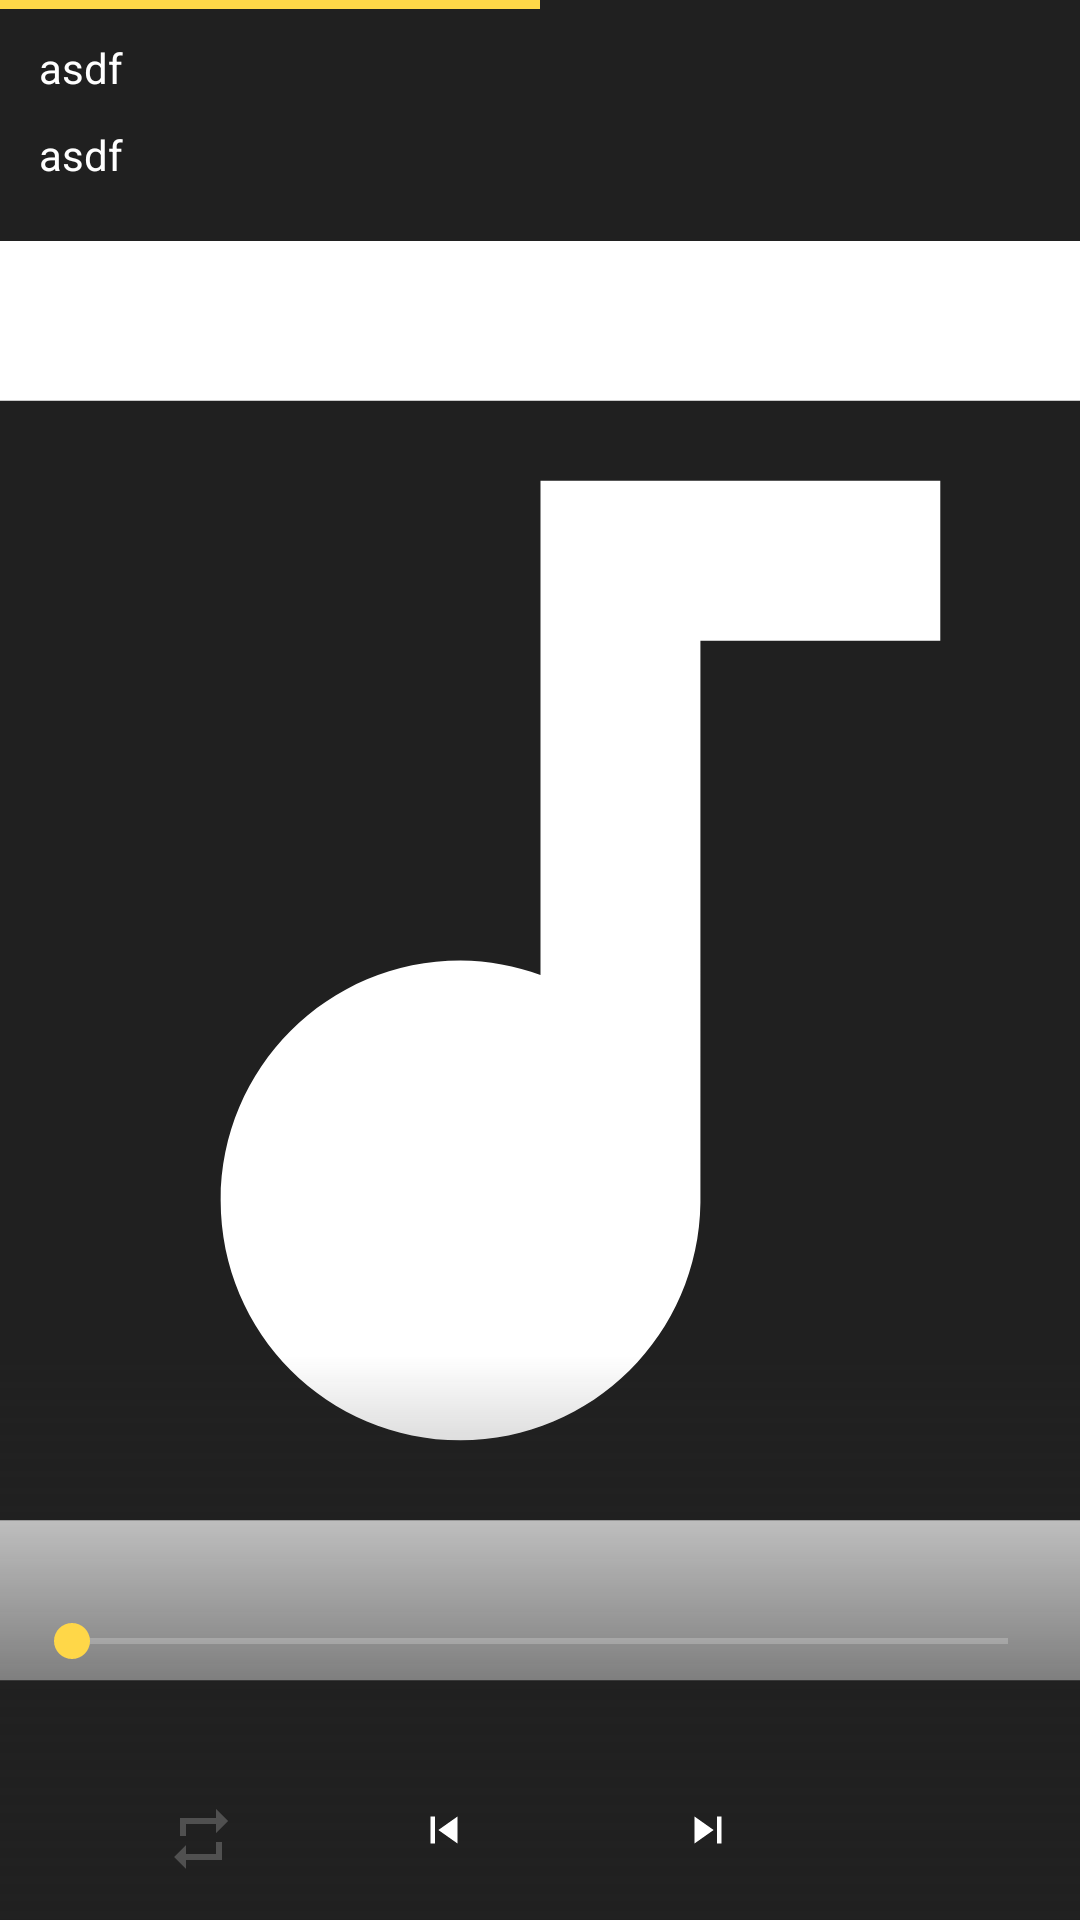

Point at icon controls on the screen. Image size 1080 × 1920, points as (x=x, y=y).
player next: (x=708, y=1830)
player prev: (x=444, y=1830)
player repeat: (x=201, y=1838)
